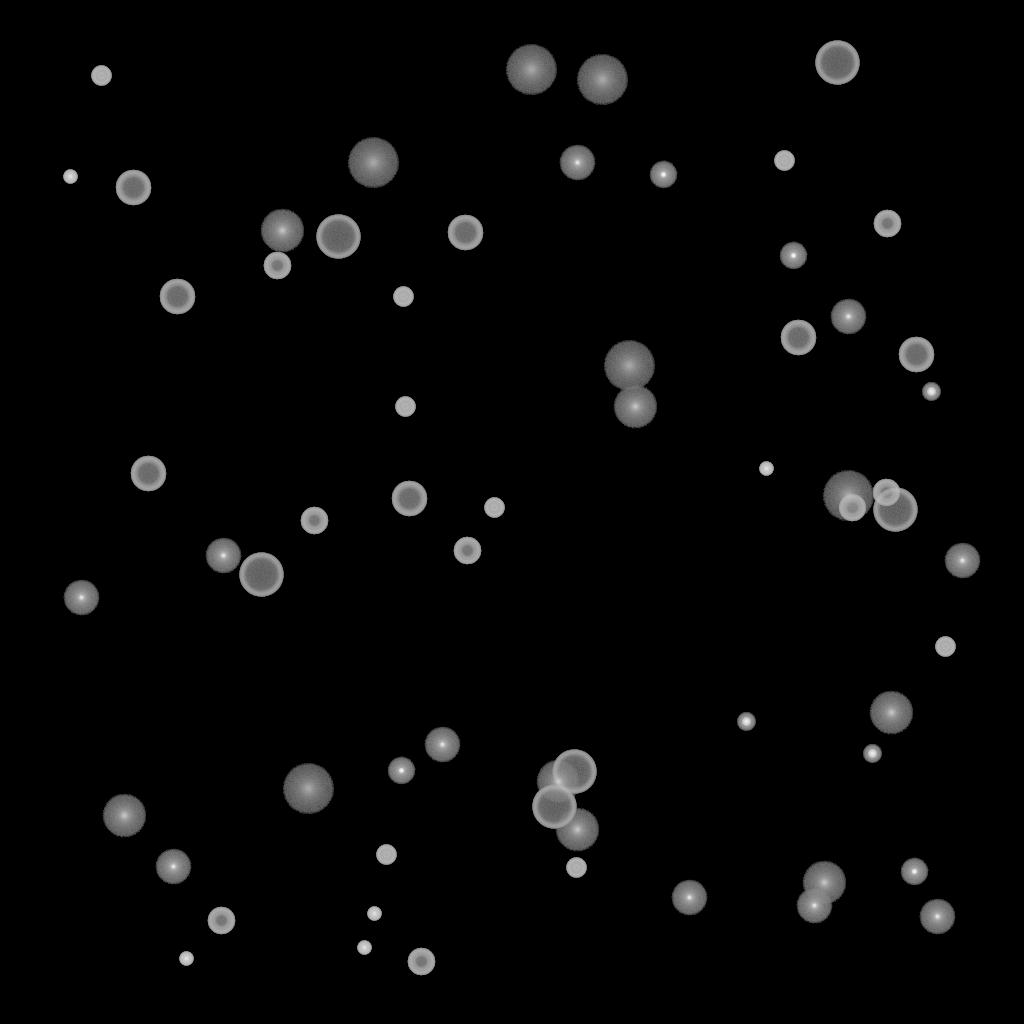depth:-10: (779, 242, 807, 270), (900, 858, 928, 886), (387, 757, 415, 785), (649, 161, 677, 189)
depth:-20: (737, 713, 755, 731), (863, 745, 881, 763), (922, 383, 940, 401)
depth:-30: (357, 941, 371, 955), (367, 907, 381, 921), (63, 170, 77, 184), (179, 952, 193, 966), (759, 462, 773, 476)
depth:-40: (935, 637, 955, 657), (484, 498, 504, 518), (566, 858, 586, 878), (376, 845, 396, 865), (395, 397, 415, 417), (393, 287, 413, 307), (774, 151, 794, 171), (91, 66, 111, 86)
depth:-50: (453, 537, 481, 565), (873, 210, 901, 238), (207, 907, 235, 935), (263, 252, 291, 280), (872, 479, 900, 507), (407, 948, 435, 976), (300, 507, 328, 535), (838, 494, 866, 522)
depth:-60: (115, 170, 151, 206), (130, 456, 166, 492), (898, 337, 934, 373), (780, 320, 816, 356), (447, 215, 483, 251), (391, 481, 427, 517), (159, 279, 195, 315)
depth:-70: (532, 785, 576, 829), (552, 750, 596, 794), (815, 41, 859, 85), (316, 215, 360, 259), (873, 488, 917, 532), (239, 553, 283, 597)
depth:0: (796, 888, 832, 924), (830, 299, 866, 335), (205, 538, 241, 574), (944, 543, 980, 579), (559, 145, 595, 181), (63, 580, 99, 616), (424, 727, 460, 763), (919, 899, 955, 935), (671, 880, 707, 916), (155, 849, 191, 885)
depth:10: (260, 209, 304, 253), (102, 794, 146, 838), (802, 861, 846, 905), (555, 808, 599, 852), (613, 385, 657, 429), (869, 691, 913, 735), (536, 760, 580, 804)
depth:20: (822, 471, 874, 521), (347, 138, 399, 188), (576, 55, 628, 105), (603, 341, 655, 391), (282, 764, 334, 814), (505, 45, 557, 95)
